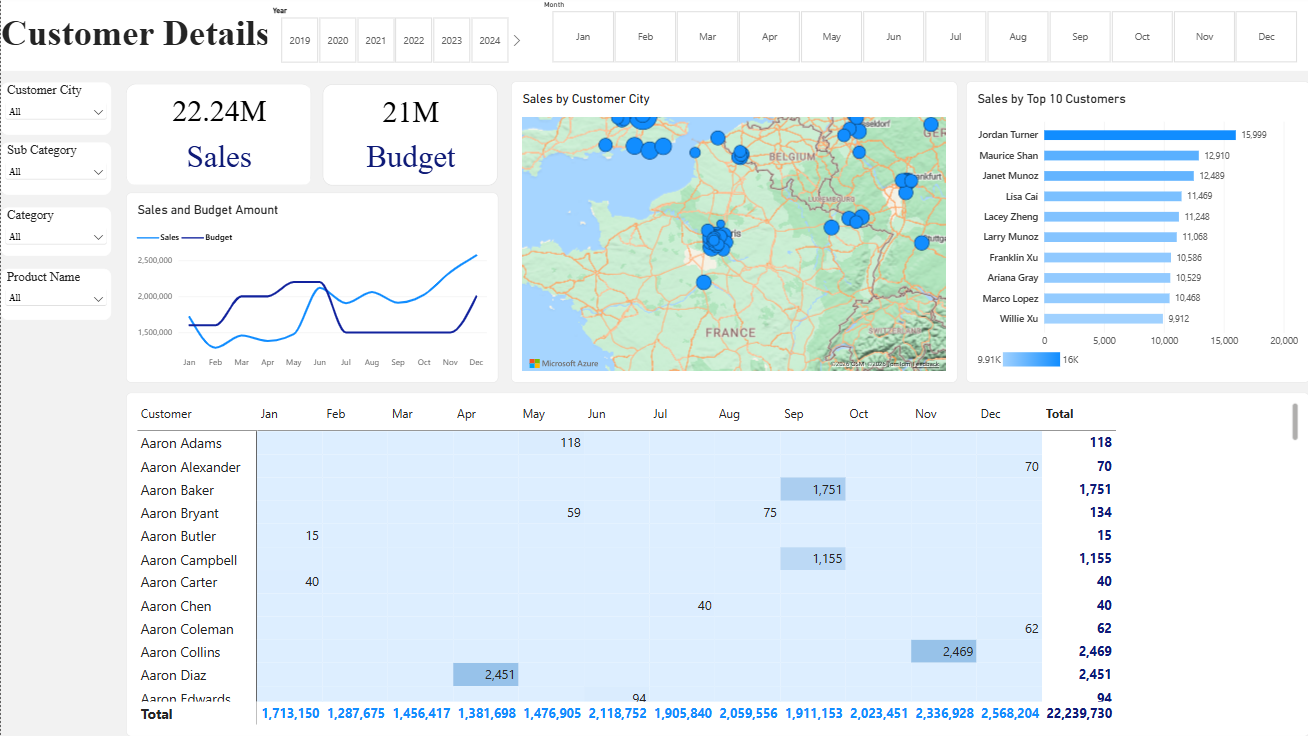

The page's visual inventory and layout, read from the dashboard file:
{"tool":"powerbi","page":{"name":"Customer Details","canvas":[1920,1080],"ordinal":1},"visuals":[{"type":"textbox","box":[0,0,1920,104],"z":0},{"type":"slicer","fields":{"Values":["DIM_Customers.Customer City"]},"box":[0,121.1,161.4,77],"z":1000},{"type":"slicer","fields":{"Values":["DIM_Products.Sub Category"]},"box":[0,209.1,161.4,77],"z":2000},{"type":"slicer","title":"Category","fields":{"Values":["DIM_Products.Product Category"]},"box":[0,304.5,161.4,71.5],"z":3000},{"type":"slicer","fields":{"Values":["DIM_Products.Product Name"]},"box":[0,394.4,161.4,75.2],"z":4000},{"type":"slicer","fields":{"Values":["DIM_Calendar.Year"]},"box":[390.7,9.2,372.4,84.4],"z":5000},{"type":"slicer","fields":{"Values":["DIM_Calendar.MonthShort"]},"box":[788.7,0,1131.7,93.5],"z":6000},{"type":"barChart","title":"Sales by Top 10 Customers","fields":{"Category":["DIM_Customers.Full Name"],"Y":["Key Measures.Sales"]},"box":[1416,119.2,504.4,442.1],"z":10000},{"type":"pivotTable","fields":{"Columns":["DIM_Calendar.MonthShort"],"Rows":["DIM_Customers.Full Name"],"Values":["Key Measures.Sales"]},"box":[183.4,576,1737,504.4],"z":11001},{"type":"lineChart","title":"Sales and Budget Amount","fields":{"Category":["DIM_Calendar.MonthShort"],"Y":["Key Measures.Sales","Key Measures.Budget_Amount"]},"box":[183.4,282.5,546.6,278.8],"z":11002},{"type":"azureMap","fields":{"Category":["DIM_Customers.Customer City"],"Size":["Key Measures.Sales"]},"box":[748.4,119.2,654.8,442.1],"z":11003},{"type":"cardVisual","fields":{"Data":["Key Measures.Sales"]},"box":[183.4,122.9,273.3,150.4],"z":11004},{"type":"cardVisual","fields":{"Data":["Key Measures.Budget_Amount"]},"box":[471.4,122.9,258.6,150.4],"z":11005}]}

Visuals, with their boxes in screenshot pixels (x1, y1, x2, y2), scaled from the page's 1920x1080 canvas onto the 1308x736 screenshot:
textbox: pyautogui.locateOnScreen(0, 0, 1307, 71)
slicer - DIM_Customers.Customer City: pyautogui.locateOnScreen(0, 83, 110, 135)
slicer - DIM_Products.Sub Category: pyautogui.locateOnScreen(0, 142, 110, 195)
"Category" slicer: pyautogui.locateOnScreen(0, 208, 110, 256)
slicer - DIM_Products.Product Name: pyautogui.locateOnScreen(0, 269, 110, 320)
slicer - DIM_Calendar.Year: pyautogui.locateOnScreen(266, 6, 520, 64)
slicer - DIM_Calendar.MonthShort: pyautogui.locateOnScreen(537, 0, 1307, 64)
"Sales by Top 10 Customers" barChart: pyautogui.locateOnScreen(965, 81, 1307, 383)
pivotTable - DIM_Calendar.MonthShort x DIM_Customers.Full Name: pyautogui.locateOnScreen(125, 393, 1307, 735)
"Sales and Budget Amount" lineChart: pyautogui.locateOnScreen(125, 193, 497, 383)
azureMap - DIM_Customers.Customer City x Key Measures.Sales: pyautogui.locateOnScreen(510, 81, 956, 383)
cardVisual - Key Measures.Sales: pyautogui.locateOnScreen(125, 84, 311, 186)
cardVisual - Key Measures.Budget_Amount: pyautogui.locateOnScreen(321, 84, 497, 186)
